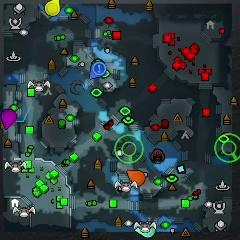Other: (93, 62, 106, 75)
p1: (89, 63, 104, 80)
p2: (134, 227, 155, 237)
p3: (1, 108, 16, 130)
p4: (45, 0, 60, 16)
p5: (126, 169, 145, 186)
